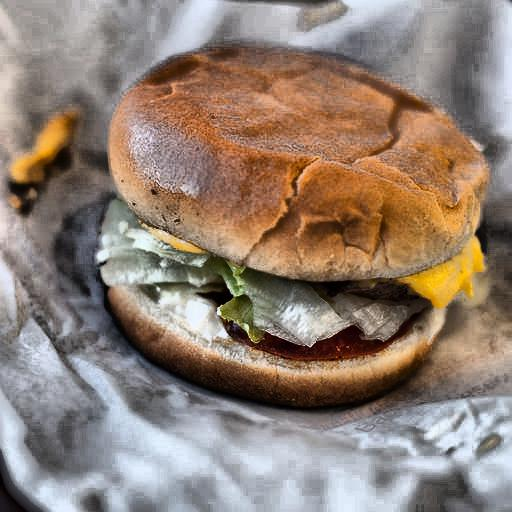burger: (78, 57, 493, 395)
